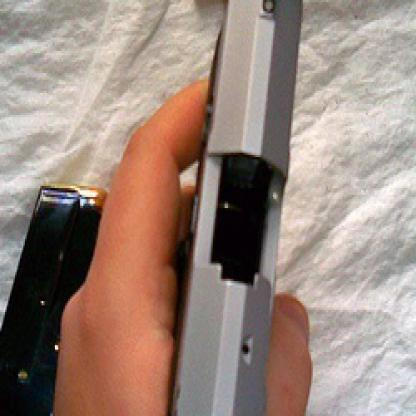gun: (150, 0, 308, 414)
